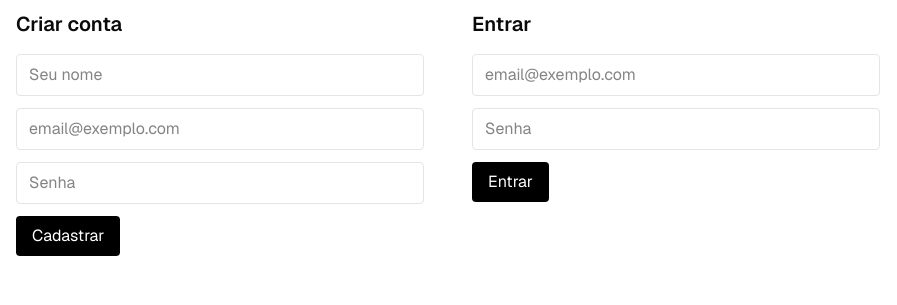
it: AccountPage (client) › exibe erro retornado pela signUpAction
Type "Alice" into the field with placeholder "Seu nome".
click(220, 75); type("Alice")  # box [16,54,424,96]
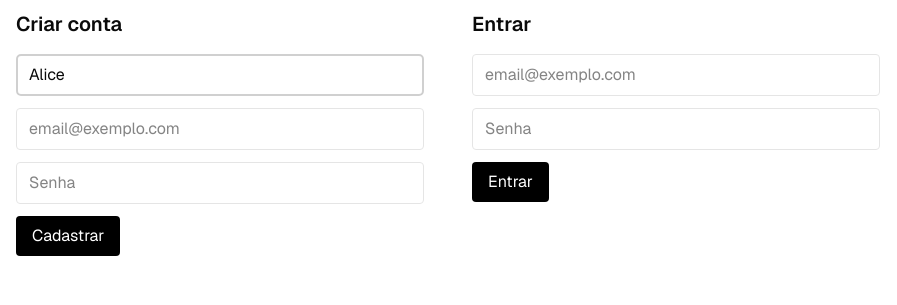
Type "alice@example.com" into the field with placeholder "email@exemplo.com" below "Criar conta".
click(220, 129); type("alice@example.com")  # box [16,108,424,150]
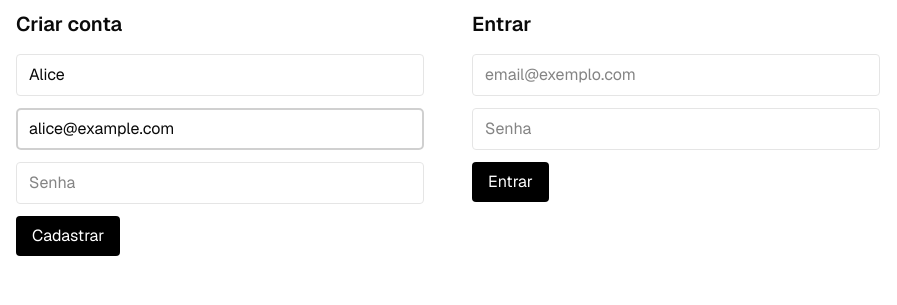
Click the button "Cadastrar".
click(68, 236)  # box [16,216,120,256]
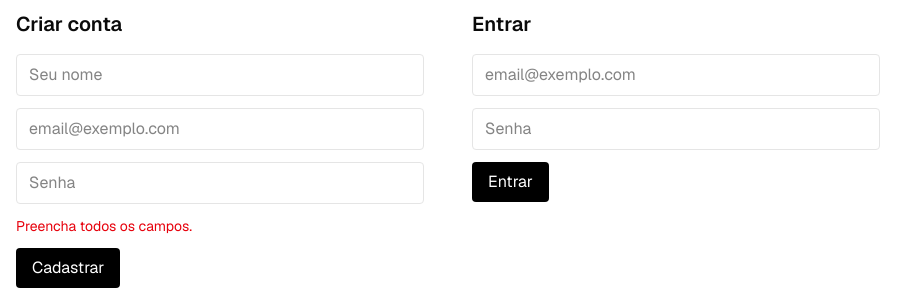
Result: the text "Preencha todos os campos." is shown at [16,217,192,235]
